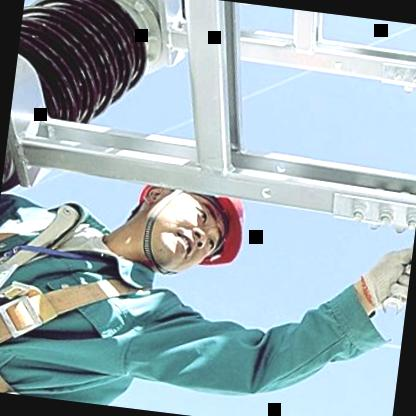helmet: (102, 172, 278, 284)
